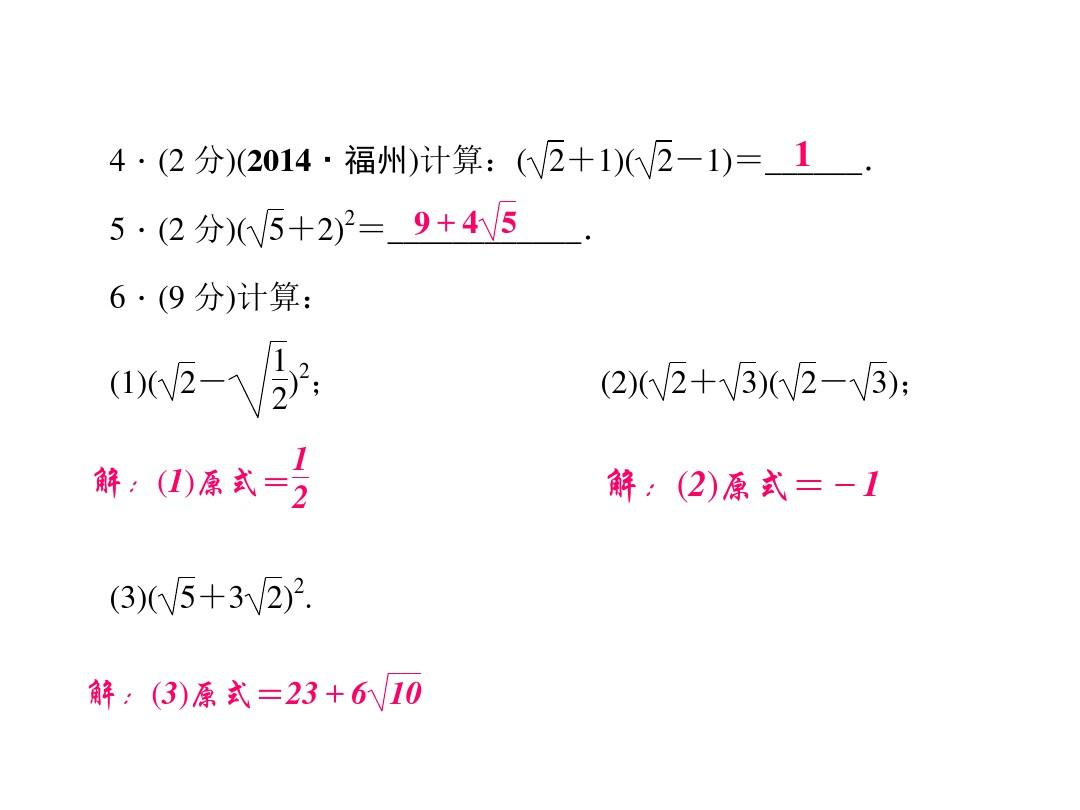sqrt: (225, 336, 297, 421), (845, 355, 903, 414), (478, 191, 522, 247), (240, 573, 291, 621), (778, 354, 825, 406), (244, 205, 294, 252), (632, 136, 680, 184), (720, 355, 765, 406), (157, 355, 199, 408), (526, 135, 573, 178), (649, 358, 689, 403), (162, 574, 201, 612)
square: (293, 360, 323, 379), (341, 201, 361, 229), (293, 574, 310, 598)
